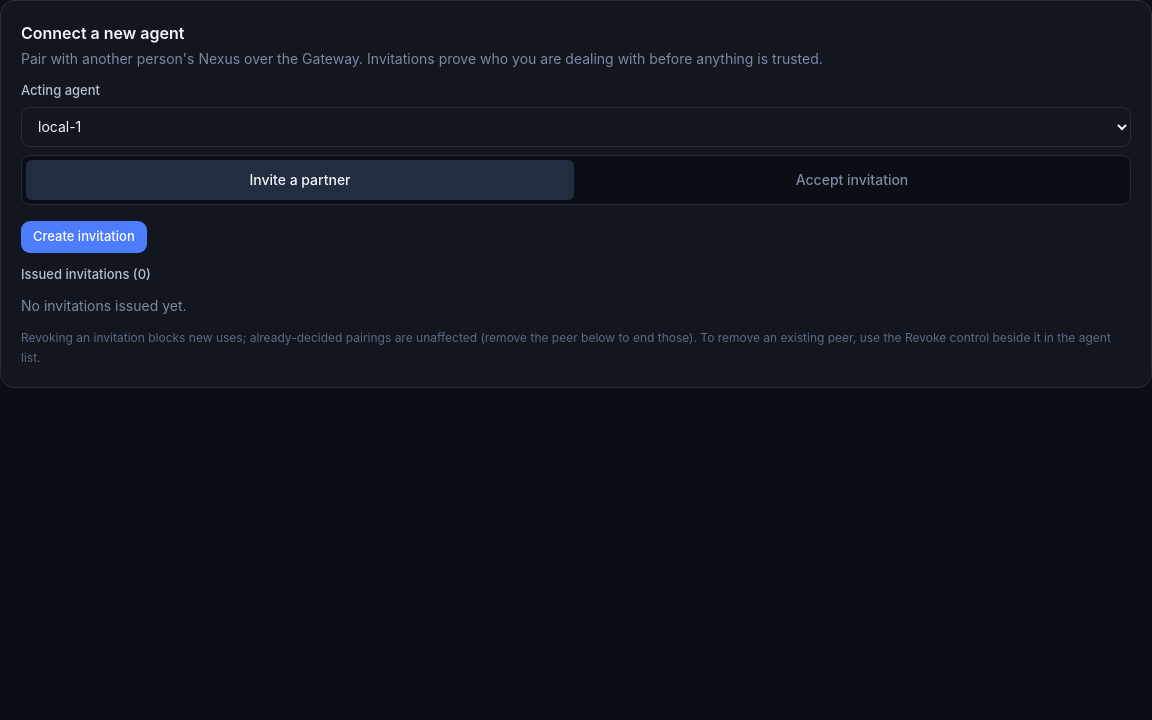
Test: ConnectAgentPanel › rejects a bad invitation with a safe error and no preview
The width and height of the screenshot is (1152, 720).
Click the tab "Accept invitation". click: (852, 180)
box: x1=578 y1=160 x2=1126 y2=200
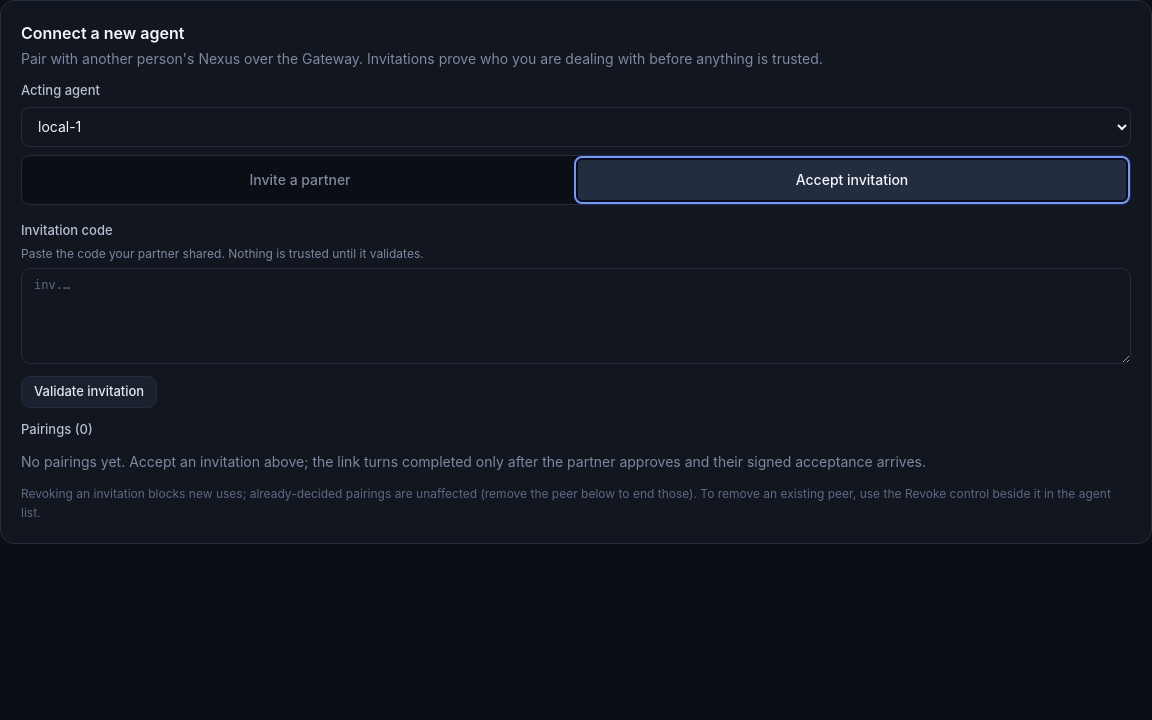
Type "garbage" into the text box with placeholder "Invitation code". click: (576, 316)
box: x1=21 y1=268 x2=1131 y2=364
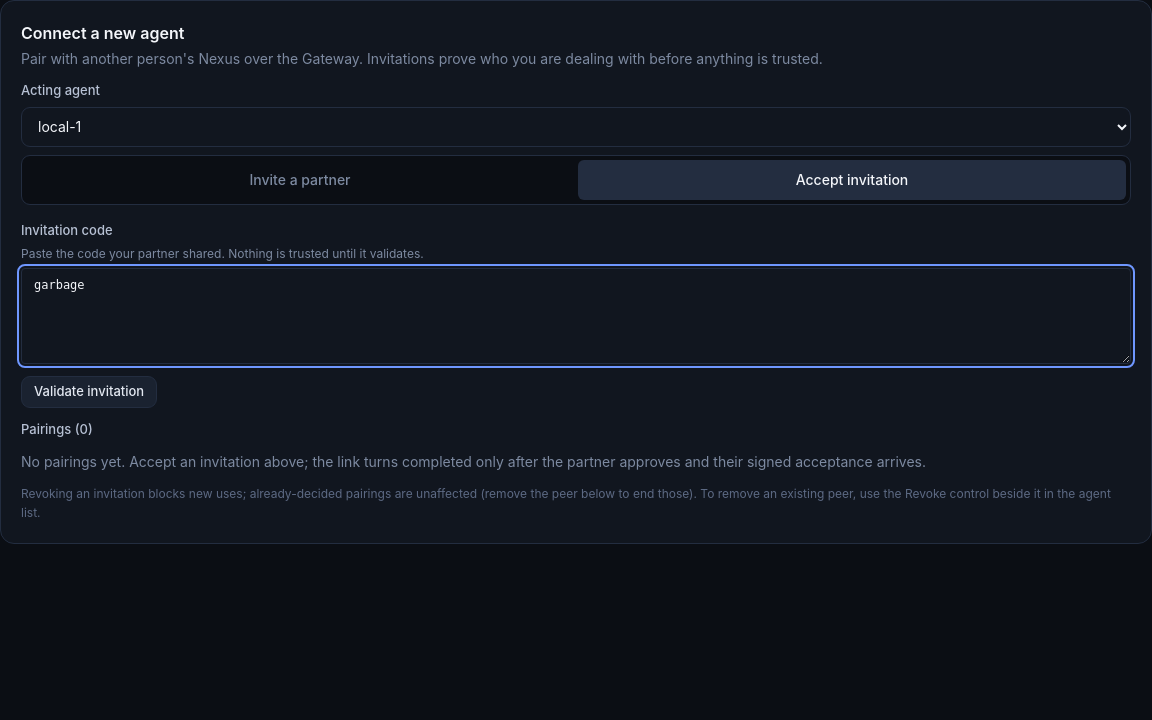
Click the button "Validate invitation". click: (89, 392)
box: x1=21 y1=376 x2=157 y2=408
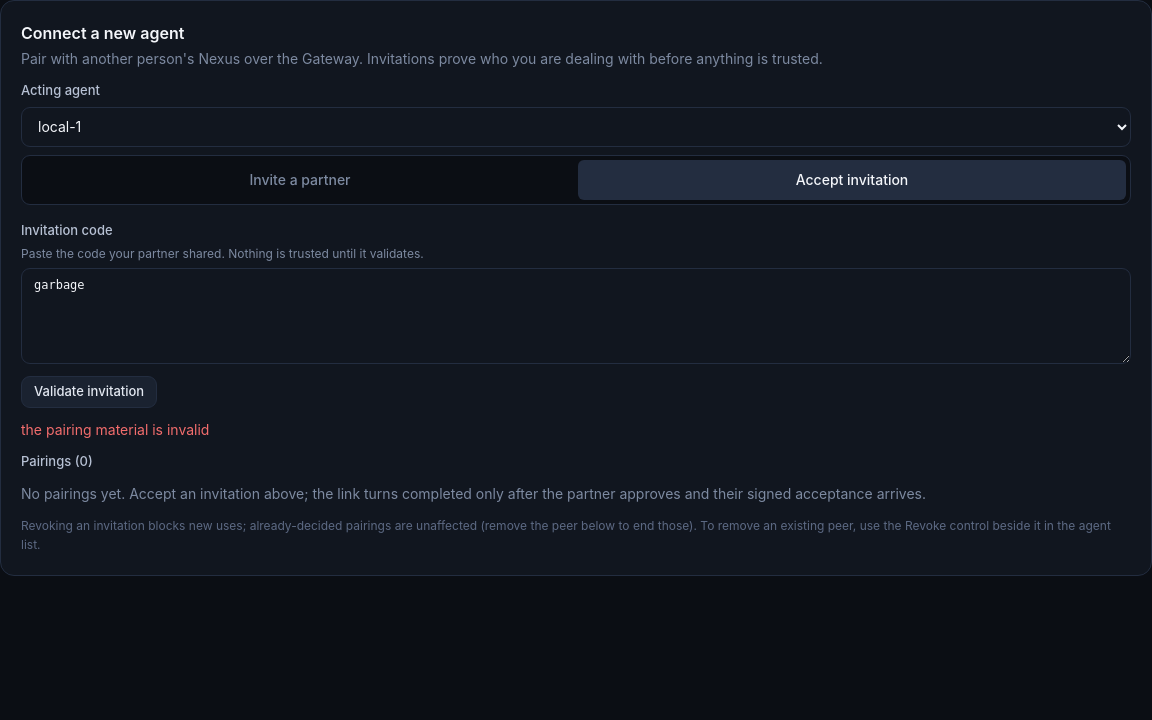
Check: the message reads "the pairing material is invalid", box x1=21 y1=421 x2=209 y2=438
